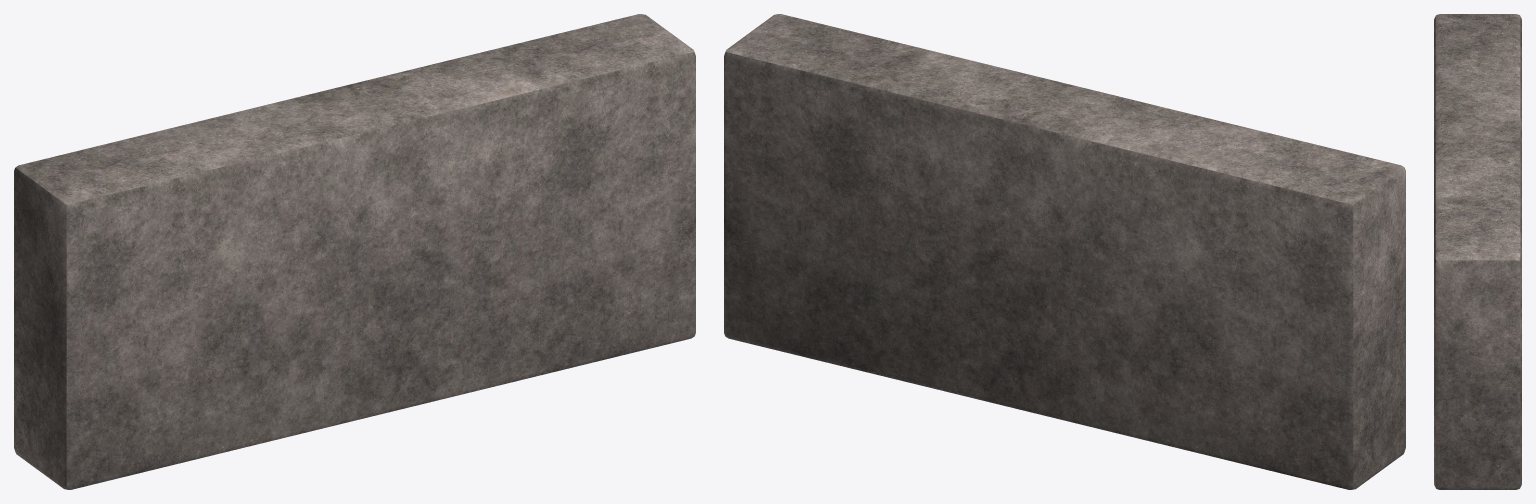
File: PAV-GUI-002.glb
3 views of the same model, side by side, from view 1: azimuth 30°, elevation 25°; view 2: azimuth 150°, elevation 25°; view 3: azimuth 270°, elevation 25° (orthographic). The views are drawn at different scales.
Parts seen in each view (by area): view 1: PAV-GUI-002_peca; view 2: PAV-GUI-002_peca; view 3: PAV-GUI-002_peca.
Part boxes in pixels (box(x1,y1,x2,y2)): PAV-GUI-002_peca: box(14, 14, 695, 489); PAV-GUI-002_peca: box(724, 14, 1405, 489); PAV-GUI-002_peca: box(1434, 14, 1521, 489).
Bounding box in the file's own units: 0.8 × 0.35 × 0.12.
1 material, 1 textured.
